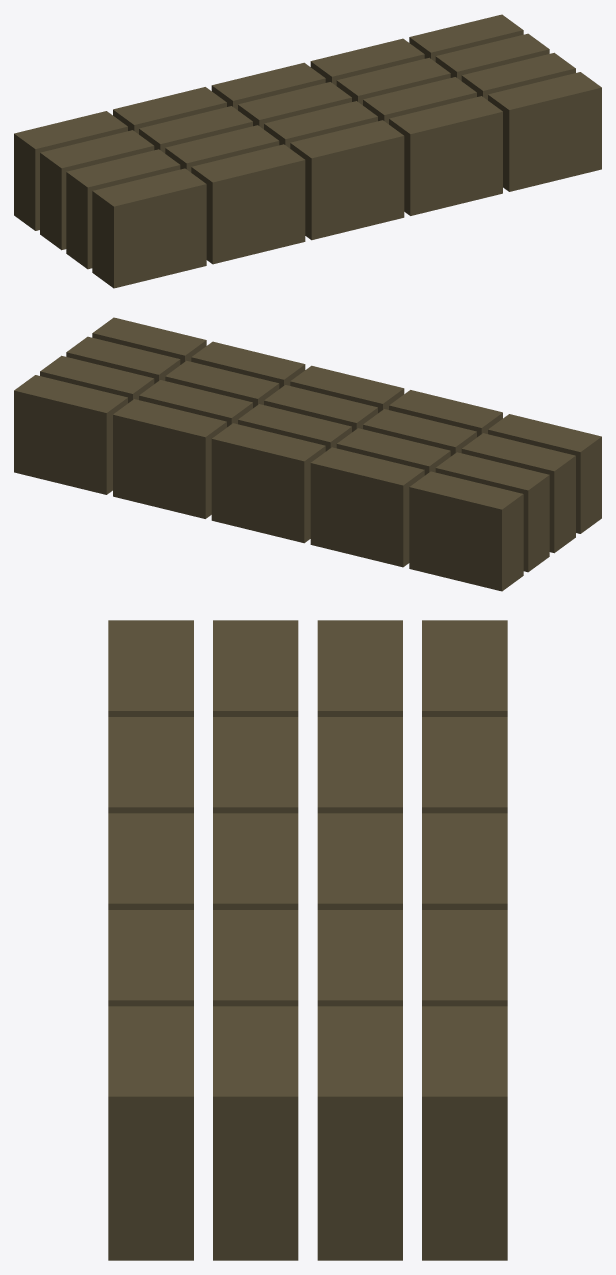
The model's file is sandbag_wall_A.obj.
3 renders of one model, top to bottom at view 1: azimuth 30°, elevation 25°; view 2: azimuth 150°, elevation 25°; view 3: azimuth 270°, elevation 25°, orthographic. The views are drawn at different scales.
Visible parts, largest first — view 1: sandbag_wall_A; view 2: sandbag_wall_A; view 3: sandbag_wall_A.
Boxes of the visible parts, x1=… form: sandbag_wall_A: x1=14, y1=14, x2=601, y2=288; sandbag_wall_A: x1=14, y1=317, x2=601, y2=591; sandbag_wall_A: x1=108, y1=620, x2=507, y2=1260.
Bounding box in the file's own units: 2.37 × 0.38 × 0.84.
